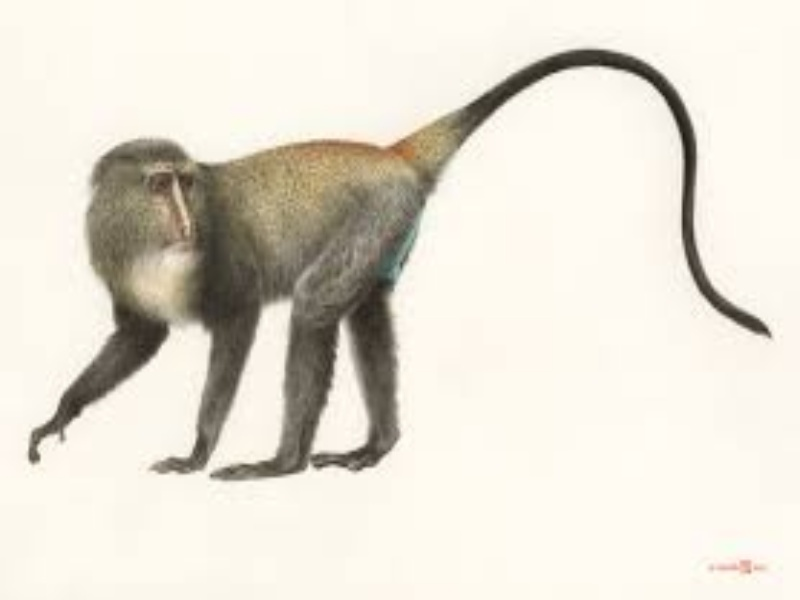monkey: (26, 37, 785, 501)
